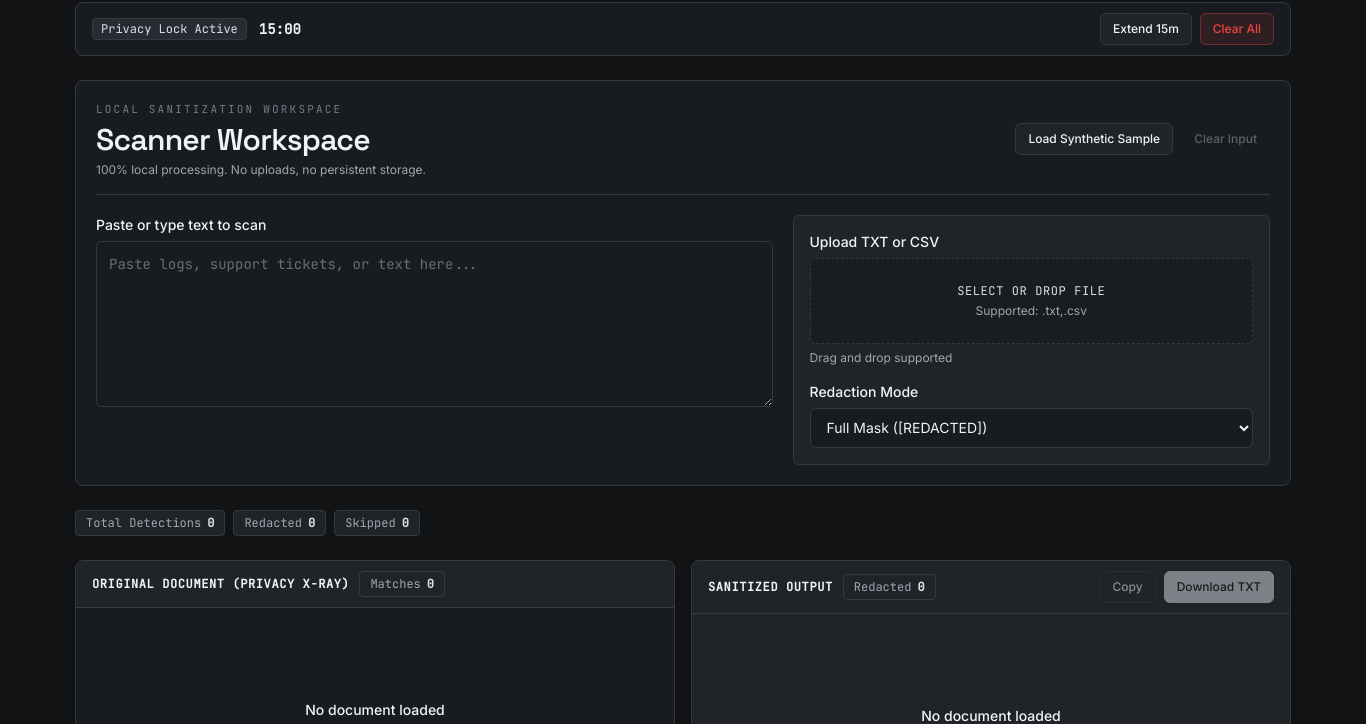
Test: Phase 3 ScannerWorkspace › loads synthetic sample, detects all 6 categories, and previews redaction
The image size is (1366, 724).
Click the button "Load Synthetic Sample": [1094, 139] box [1015,123,1173,155]
(page scrolled)
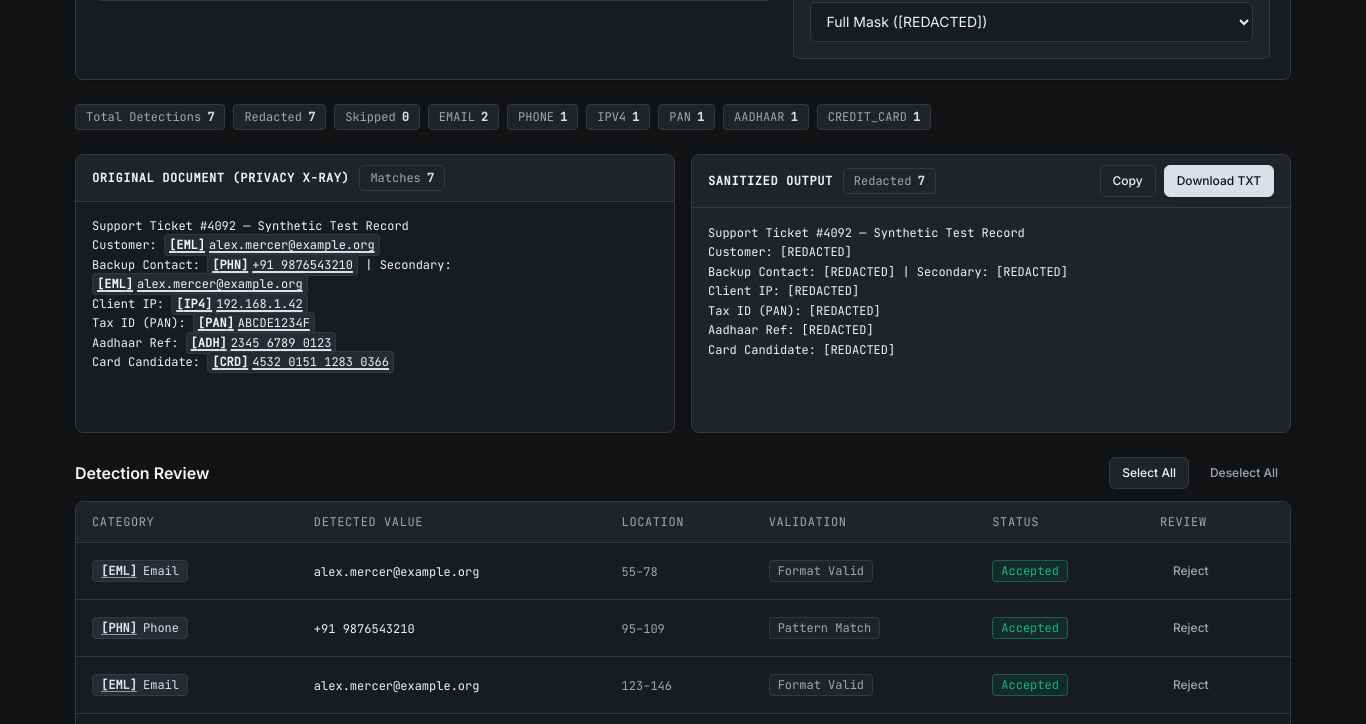
Check: the 1st text "[EML]" is shown, box [169,237,205,253]
Check: the text "[PHN]" below "Original Document (Privacy X-Ray)" is shown, box [219,256,241,272]
Check: the text "[IP4]" below "Original Document (Privacy X-Ray)" is shown, box [183,296,205,312]
